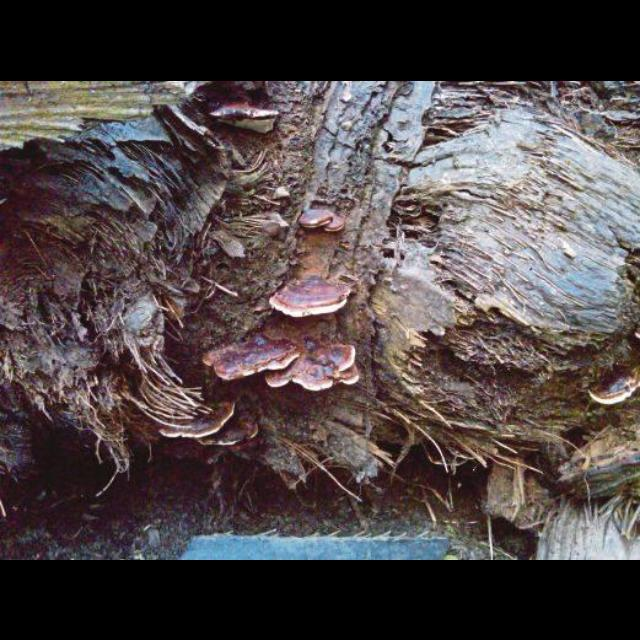ganoderma: (268, 342, 363, 393), (201, 341, 304, 381), (270, 274, 355, 318), (587, 375, 640, 406), (207, 102, 283, 122), (300, 207, 347, 234)
